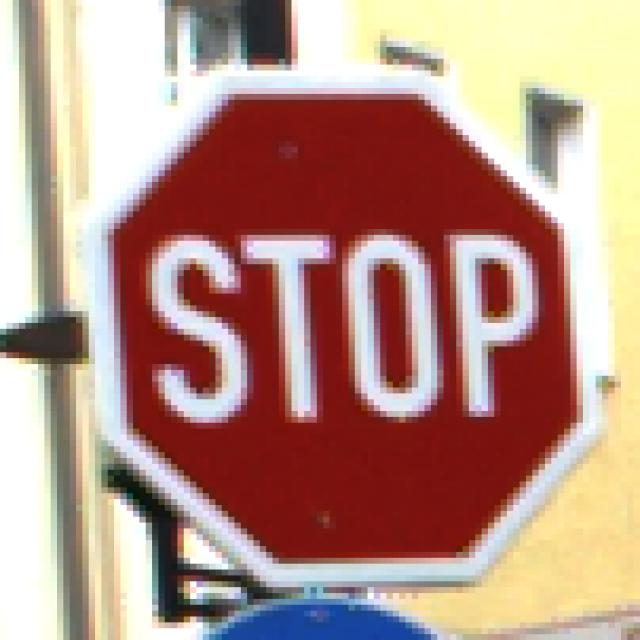STOP: (58, 54, 590, 588)
